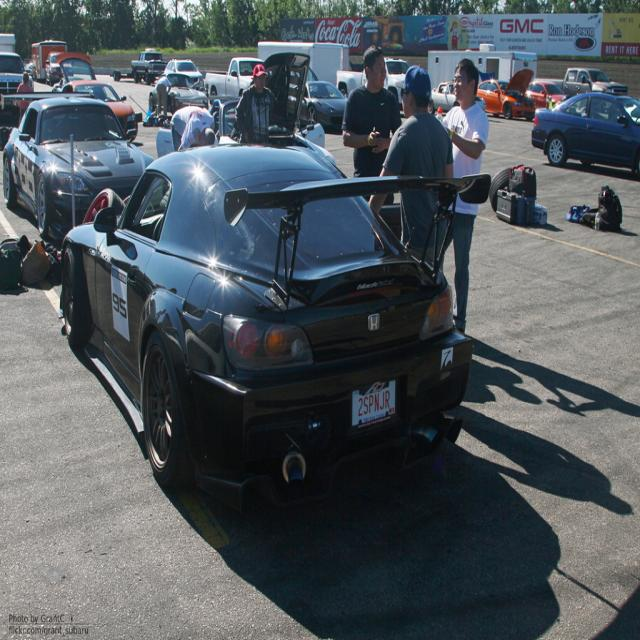car: (50, 134, 466, 488)
